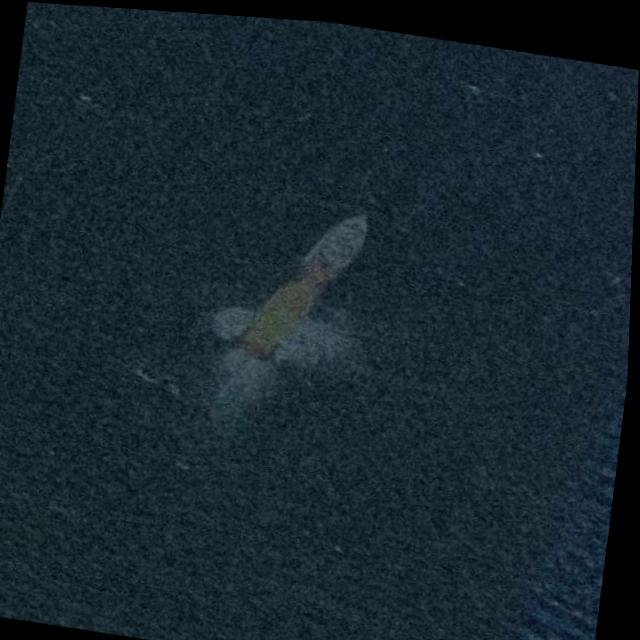ship2: (237, 206, 369, 353)
